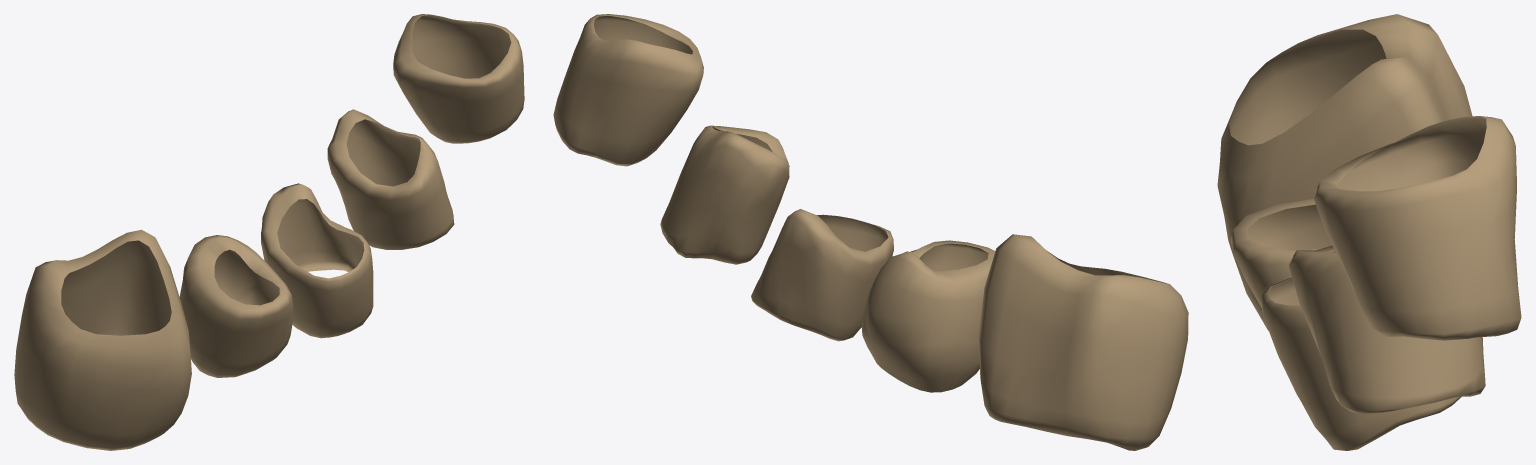
3 renders of one model, left to right at view 1: azimuth 30°, elevation 25°; view 2: azimuth 150°, elevation 25°; view 3: azimuth 270°, elevation 25°, orthographic. The views are drawn at different scales.
Parts seen in each view (by area): view 1: 左侧跖趾关节囊; view 2: 左侧跖趾关节囊; view 3: 左侧跖趾关节囊.
Boxes of the visible parts, box(x1,y1,x2,y2) form: 左侧跖趾关节囊: box(14, 14, 524, 450); 左侧跖趾关节囊: box(553, 14, 1188, 450); 左侧跖趾关节囊: box(1217, 14, 1521, 450).
Size of the model in its own units: 0.119 by 0.067 by 0.0364.
